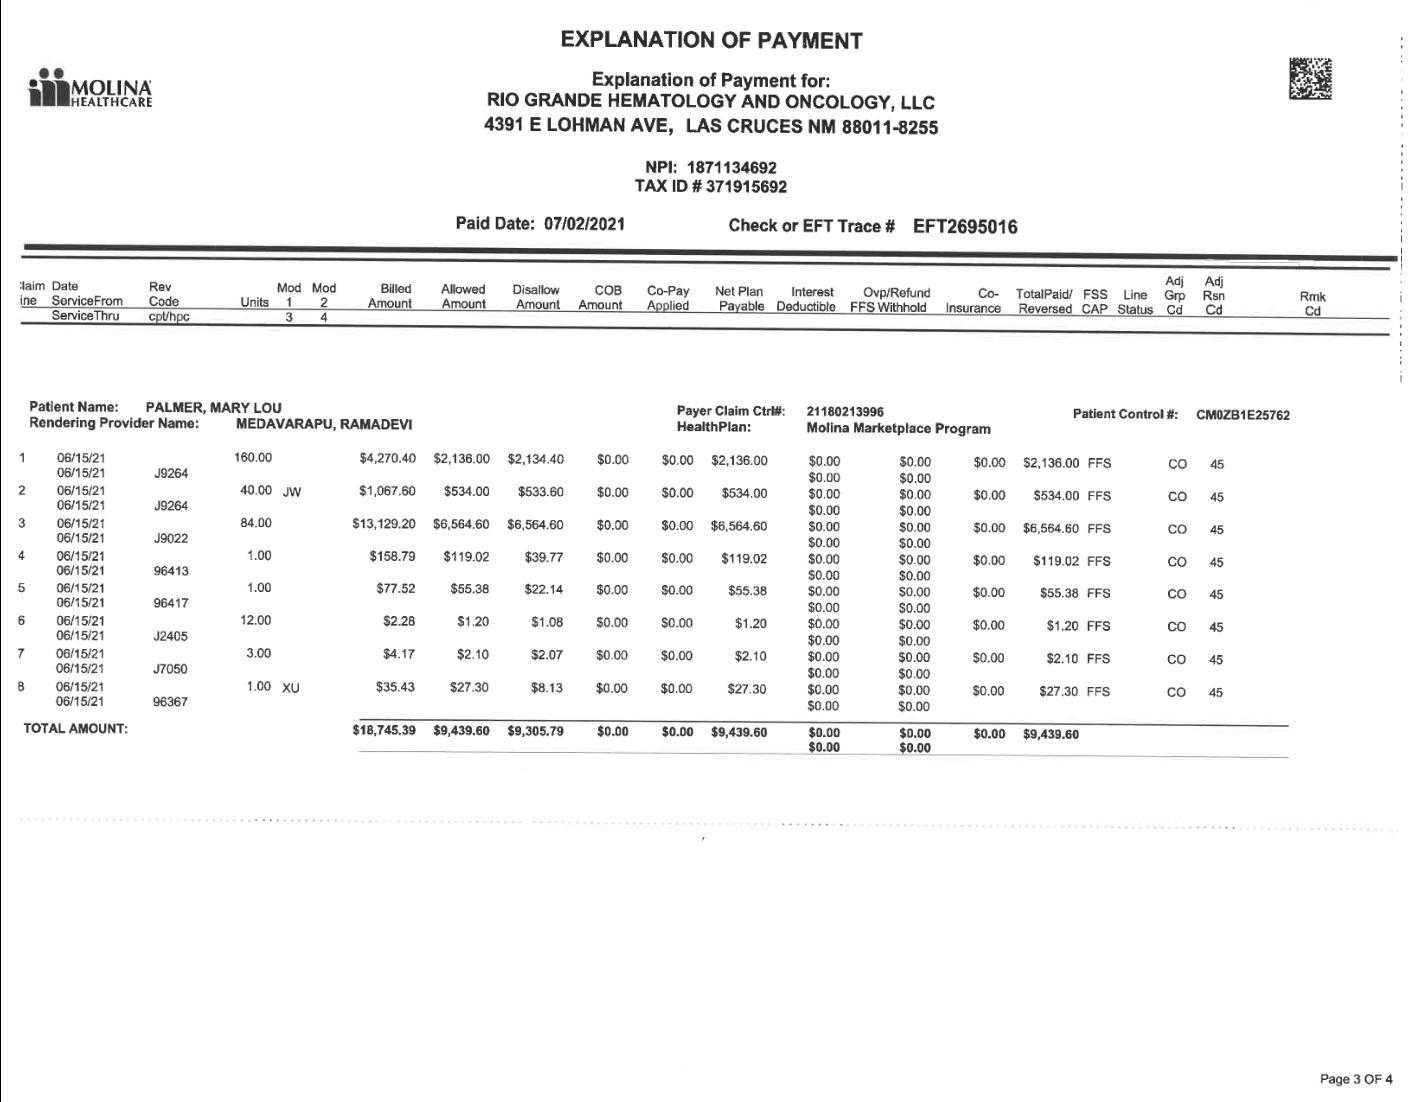data: (632, 148, 803, 201)
table: (9, 269, 1370, 764)
